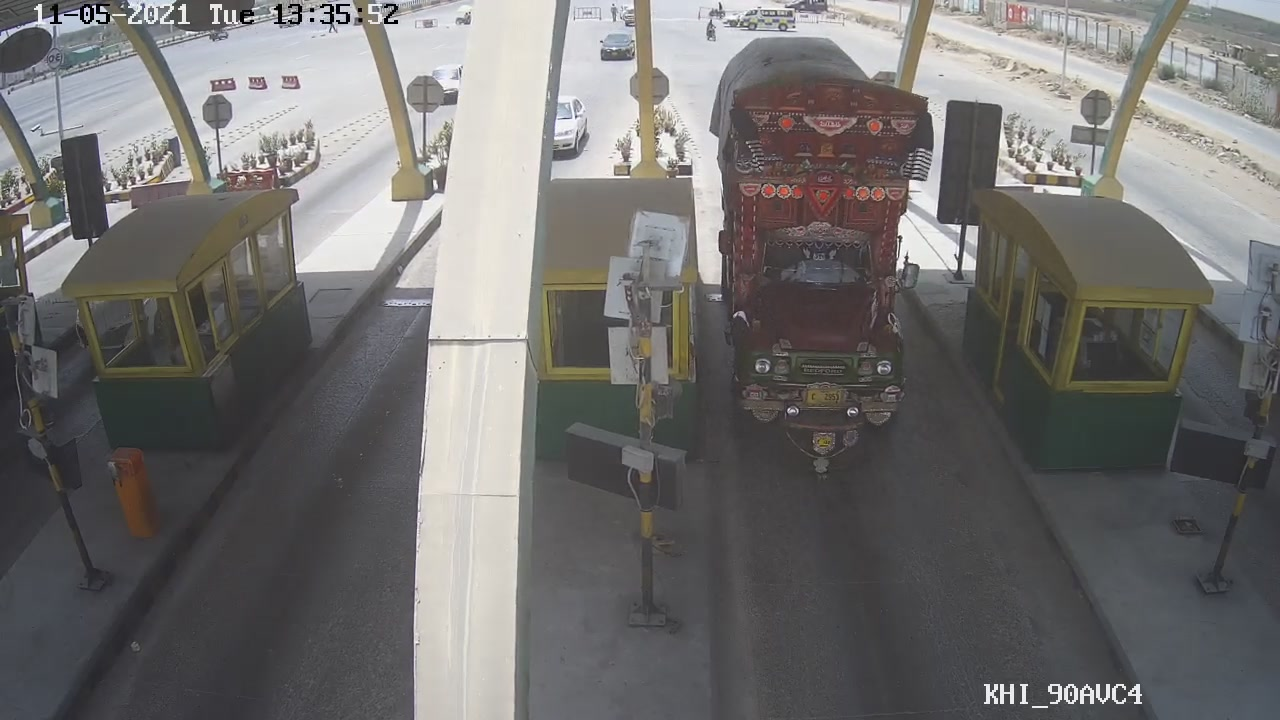F5: (710, 49, 933, 478)
